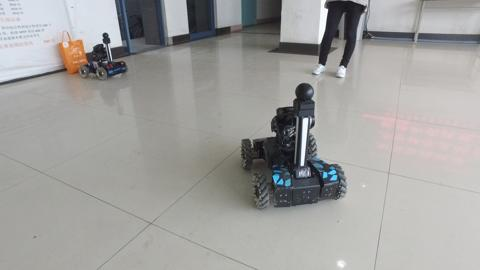bag: (56, 29, 89, 76)
chariot: (238, 80, 349, 211), (77, 31, 129, 81)
